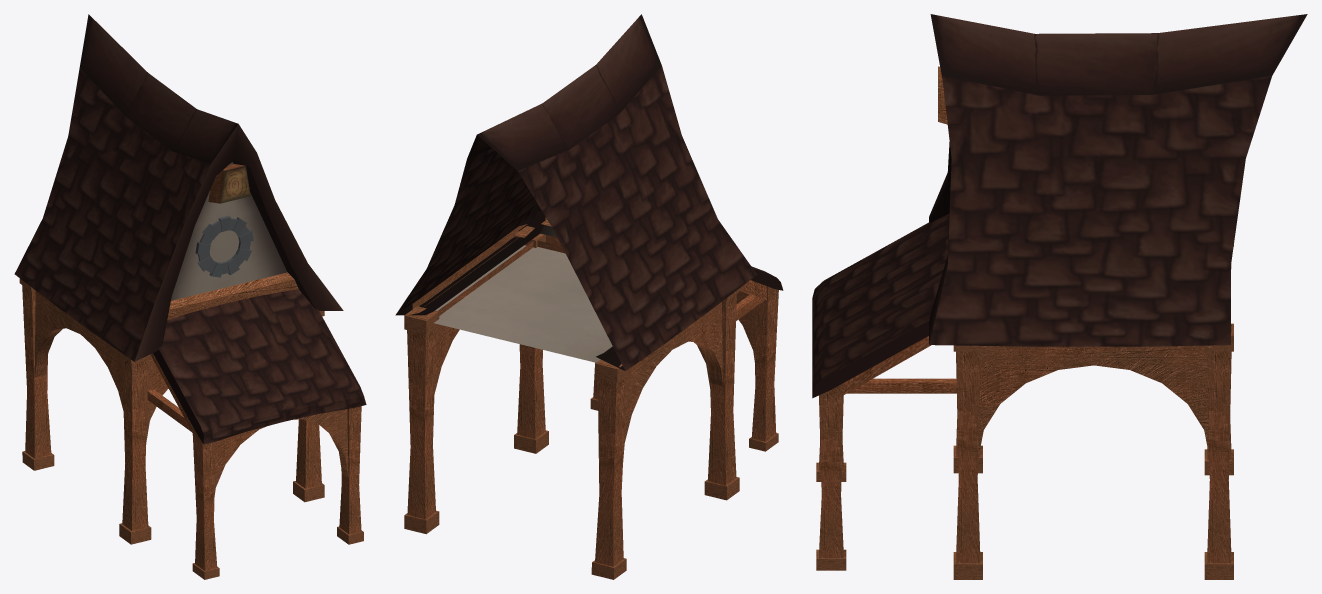
Rendered from fanasty_mod_entrance_way01.fbx.
The picture shows the model from 3 angles, left to right: view 1: azimuth 30°, elevation 25°; view 2: azimuth 150°, elevation 25°; view 3: azimuth 270°, elevation 25°; orthographic projection. The views are drawn at different scales.
Parts seen in each view (by area): view 1: entrance_way_01; view 2: entrance_way_01; view 3: entrance_way_01.
Part boxes in pixels (x1,y1,x2,y2): entrance_way_01: [14, 14, 366, 579]; entrance_way_01: [395, 14, 783, 579]; entrance_way_01: [812, 14, 1307, 579].
Size of the model in its own units: 3.91 by 7.21 by 6.38.
